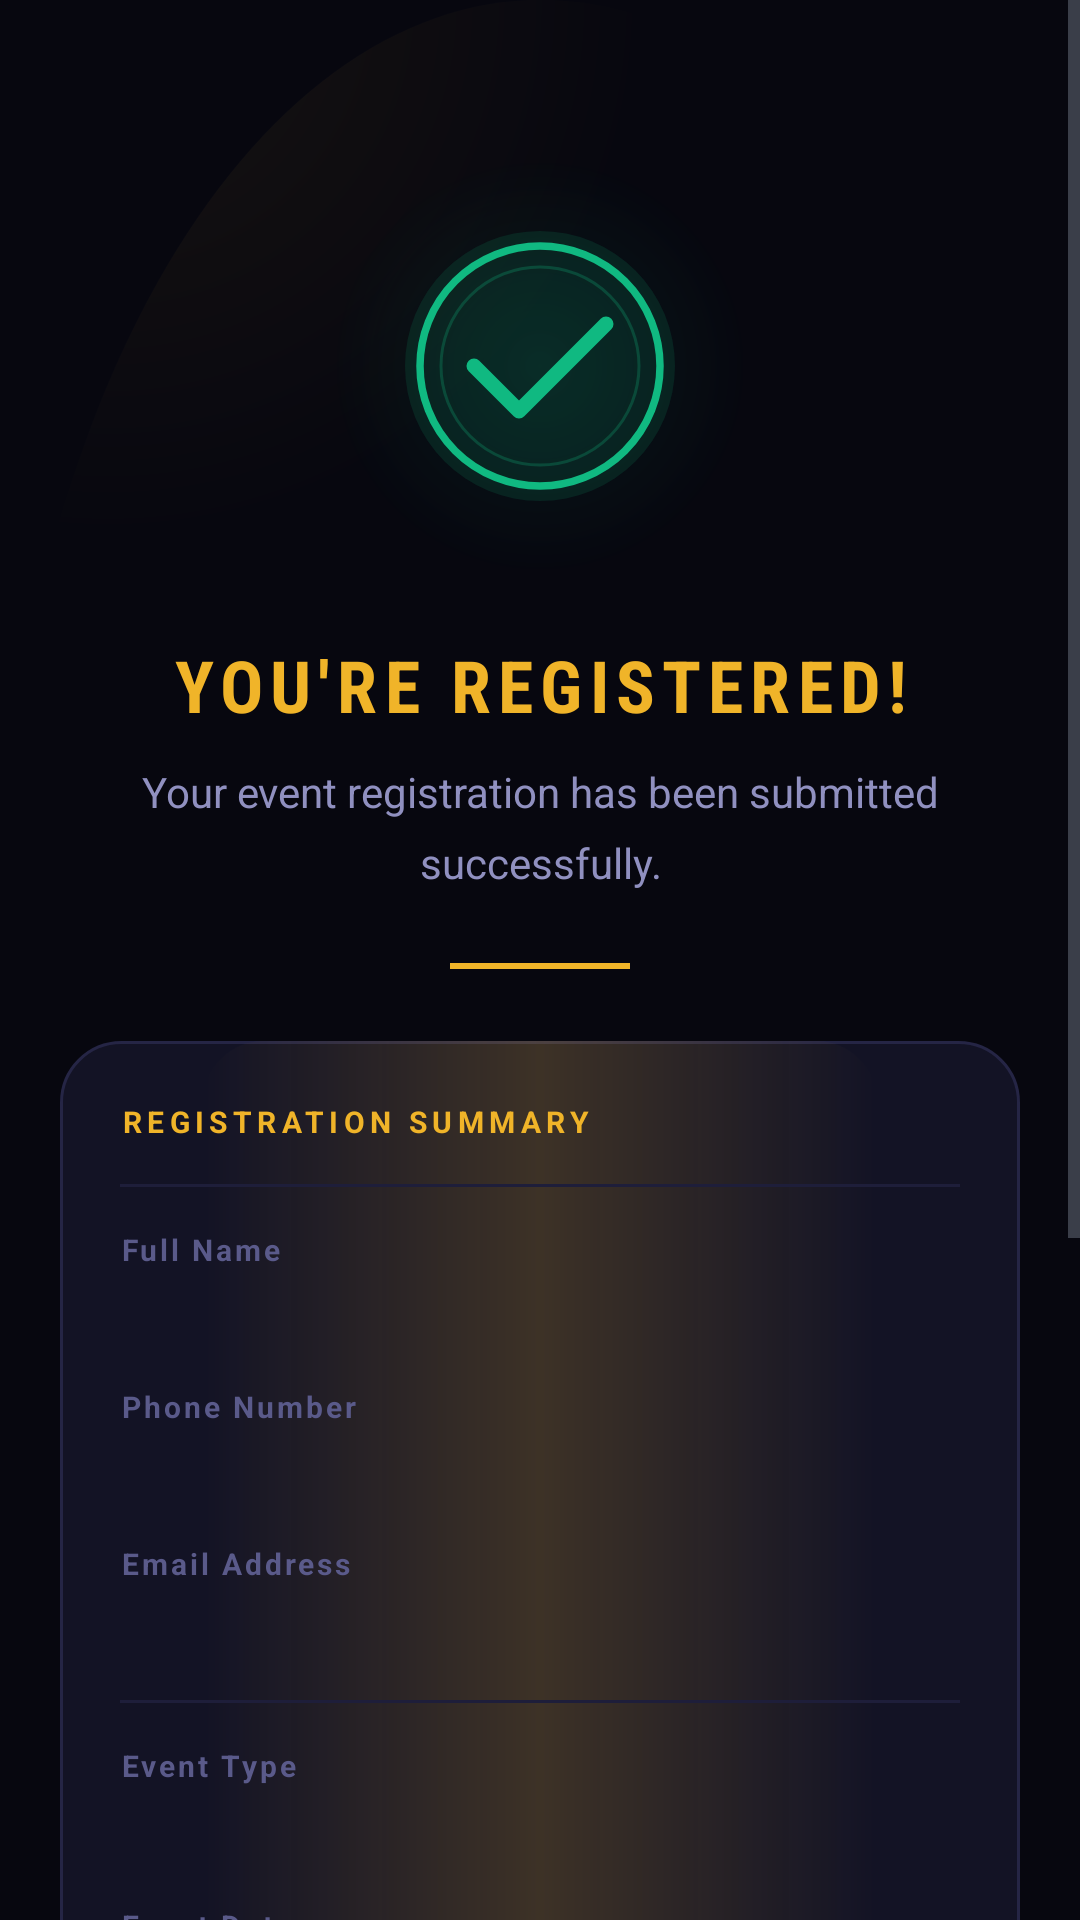

Icons on this 1080px x 1920px Android screen, each with the point to tap as (x,y):
Success: (539,366)
